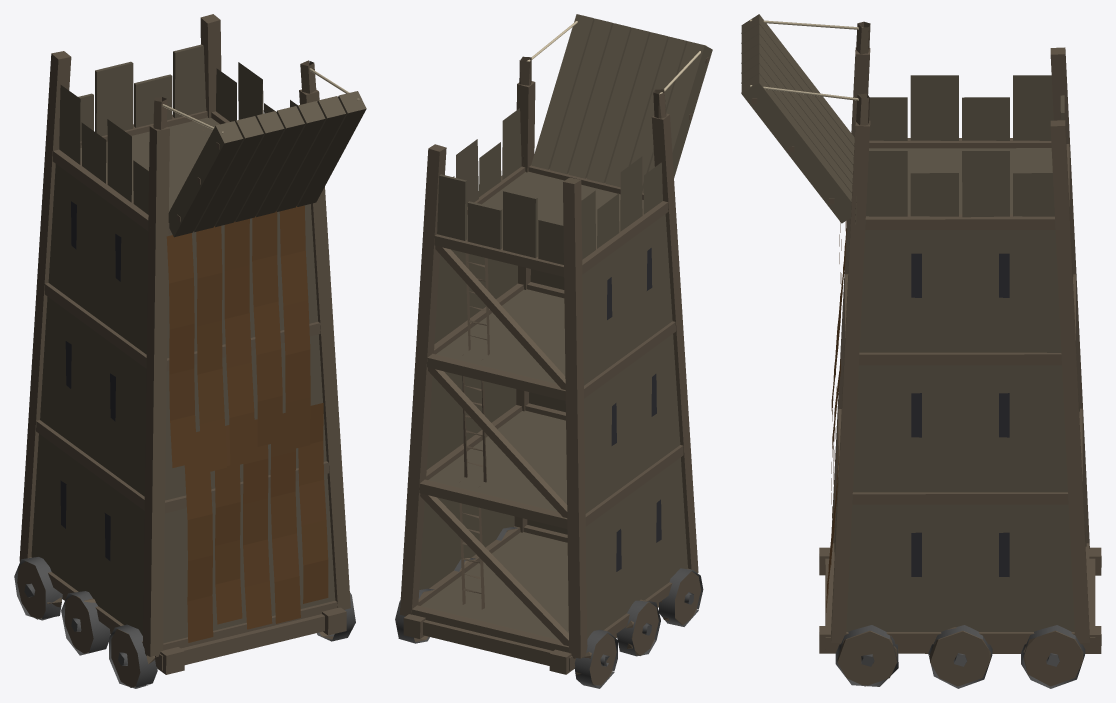
File: siege-tower-lod1.glb
3 views of the same model, side by side, from view 1: azimuth 30°, elevation 25°; view 2: azimuth 150°, elevation 25°; view 3: azimuth 270°, elevation 25° (orthographic). The views are drawn at different scales.
Parts seen in each view (by area): view 1: siege-tower.001; view 2: siege-tower.001; view 3: siege-tower.001.
Boxes of the visible parts, x1,y1,x2,y2 form: siege-tower.001: [14, 14, 366, 688]; siege-tower.001: [395, 14, 712, 688]; siege-tower.001: [741, 14, 1101, 688].
Bounding box in the file's own units: 5.2 × 13.31 × 7.38.
